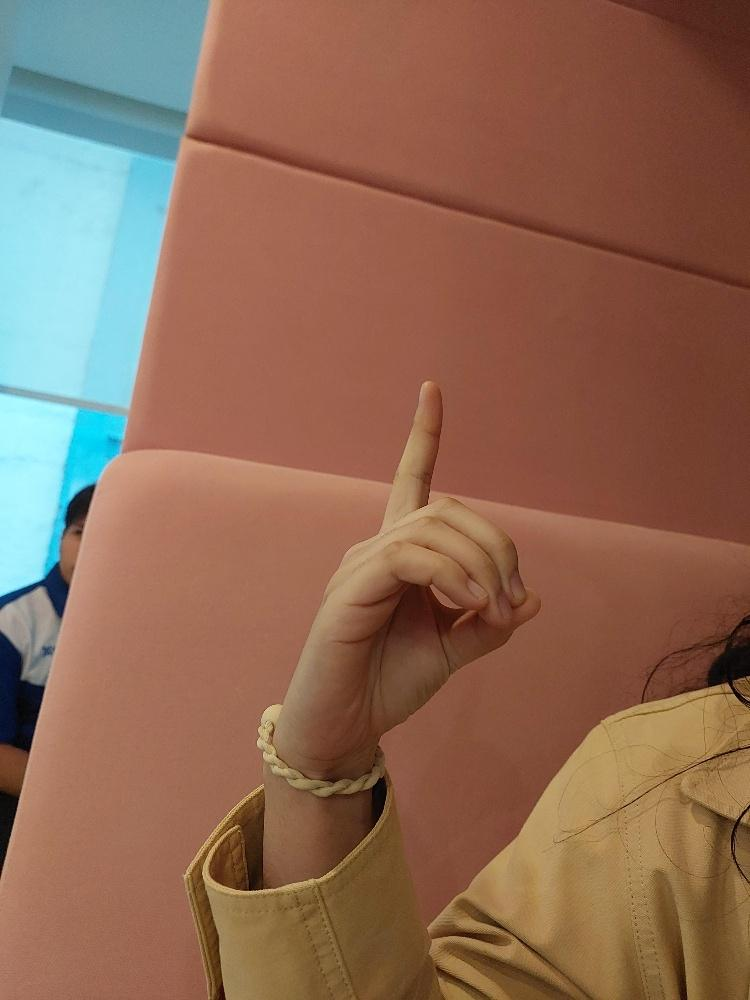d: (265, 370, 551, 782)
